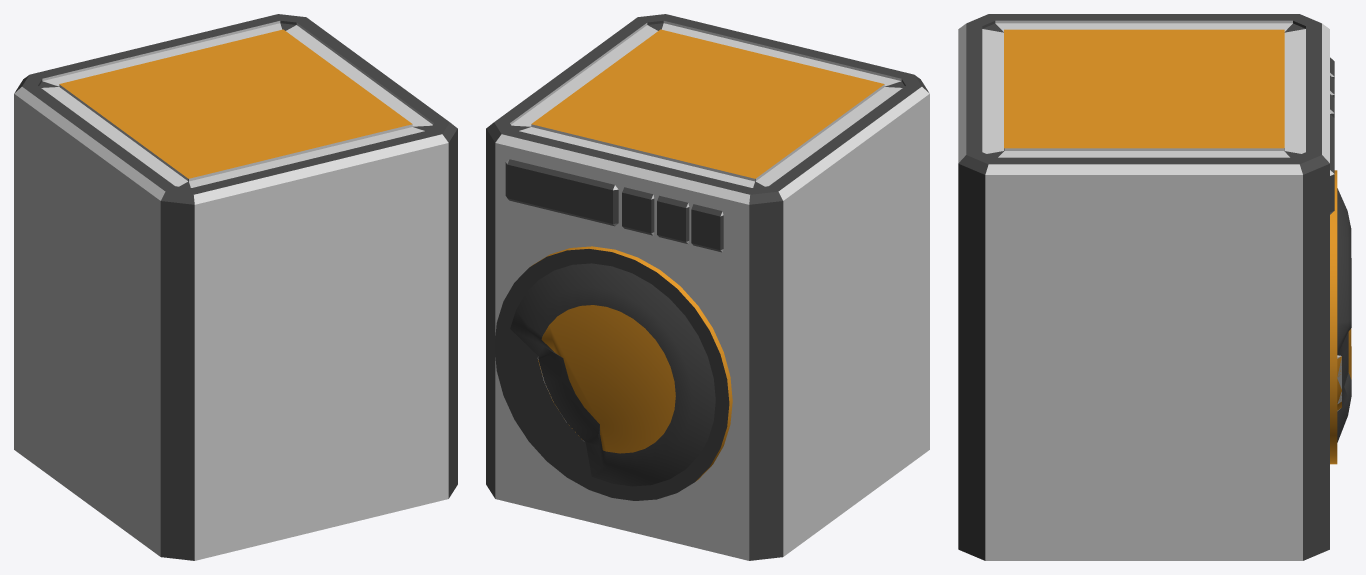
File: StirayTrusySuka.fbx
3 renders of one model, left to right at view 1: azimuth 30°, elevation 25°; view 2: azimuth 150°, elevation 25°; view 3: azimuth 270°, elevation 25°, orthographic. The views are drawn at different scales.
Parts seen in each view (by area): view 1: Cube; view 2: Cube; view 3: Cube.
Part boxes in pixels (left/top/right/bottom): Cube: left=14, top=14, right=457, bottom=560; Cube: left=486, top=14, right=929, bottom=560; Cube: left=958, top=14, right=1351, bottom=560.
Size of the model in its own units: 240 by 280 by 254.
